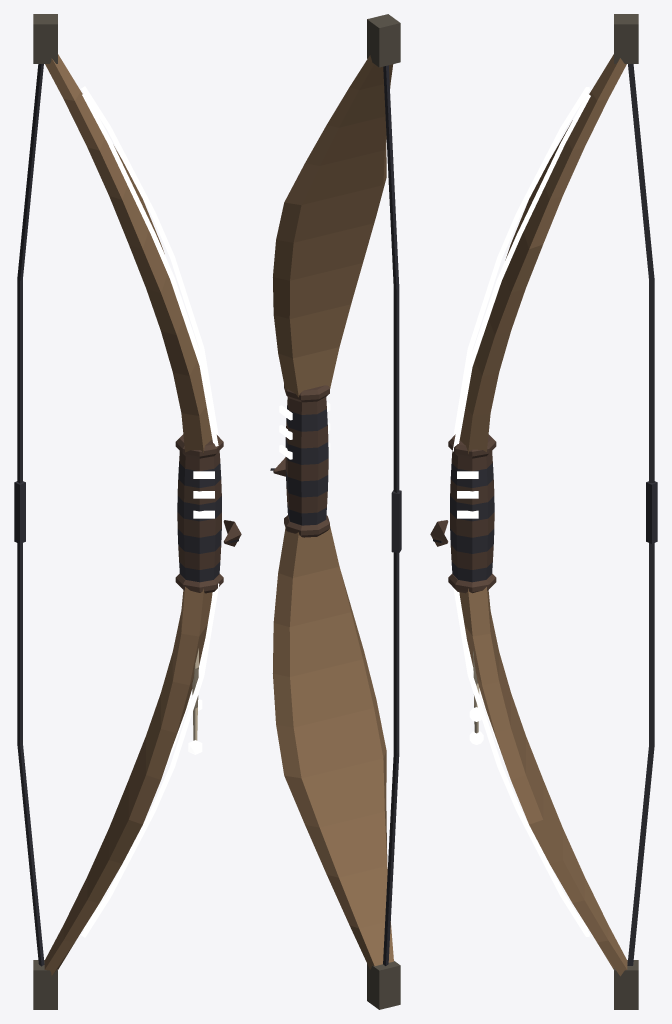
File: bow-lone-string.glb
3 renders of one model, left to right at view 1: azimuth 90°, elevation 25°; view 2: azimuth 210°, elevation 25°; view 3: azimuth 270°, elevation 25°, orthographic.
Parts seen in each view (by area): view 1: bow-lone-string, pulse_vein, string, sway_sinewb, pulse_breath; view 2: bow-lone-string, string, pulse_breath; view 3: bow-lone-string, pulse_vein, string, pulse_breath.
Part boxes in pixels (x1,y1,x2,y2): bow-lone-string: [33, 14, 241, 1009]; pulse_vein: [81, 86, 219, 937]; string: [14, 64, 44, 966]; sway_sinewb: [188, 648, 202, 754]; pulse_breath: [193, 471, 214, 518]; bow-lone-string: [270, 14, 400, 1009]; string: [383, 65, 401, 965]; pulse_breath: [279, 402, 330, 459]; bow-lone-string: [430, 14, 638, 1009]; pulse_vein: [452, 87, 590, 936]; string: [627, 64, 657, 965]; pulse_breath: [457, 471, 478, 518].
Bounding box in the file's own units: 0.1633 × 1.5 × 0.3128.
